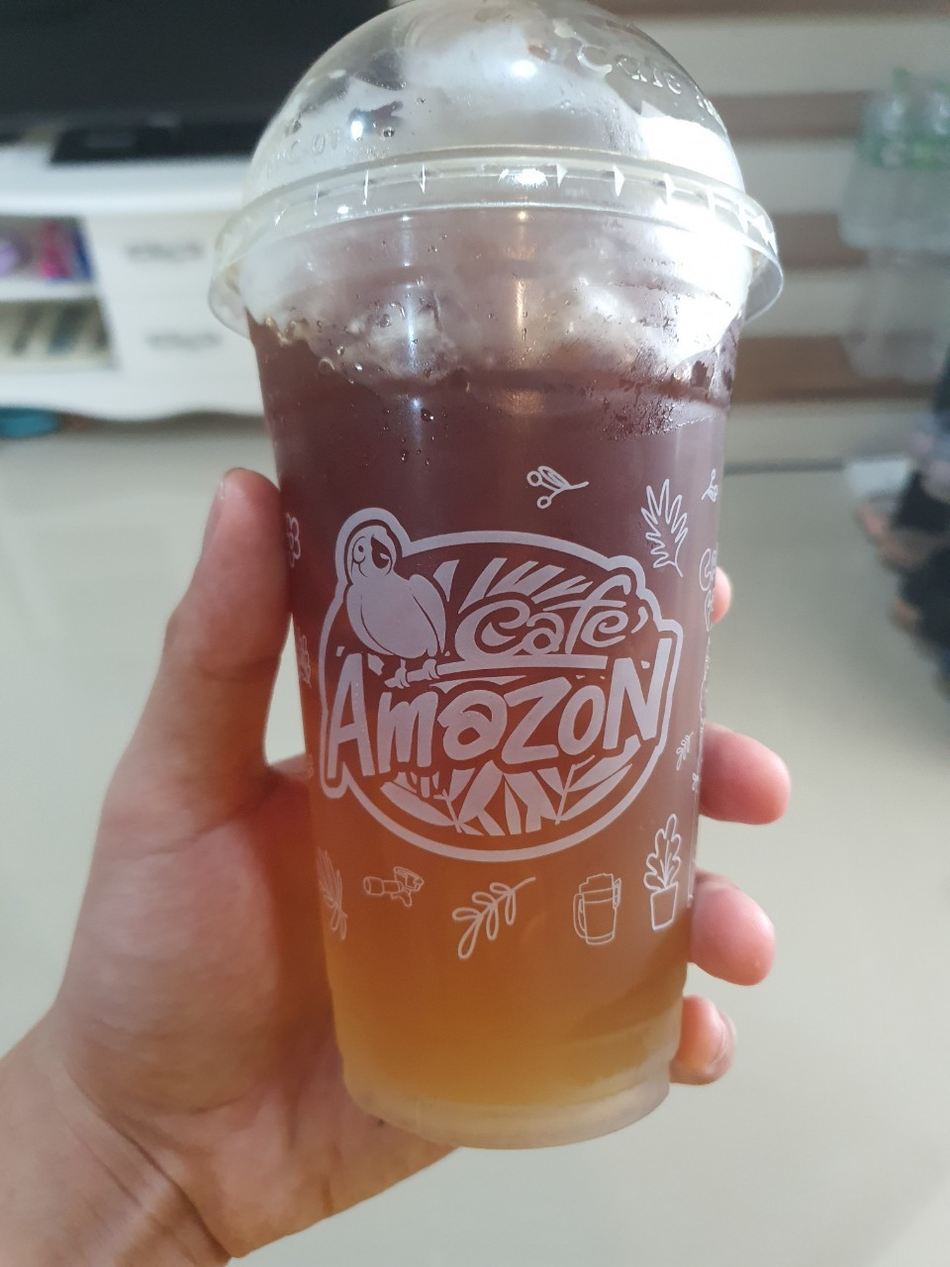plastic: (190, 0, 821, 1188)
